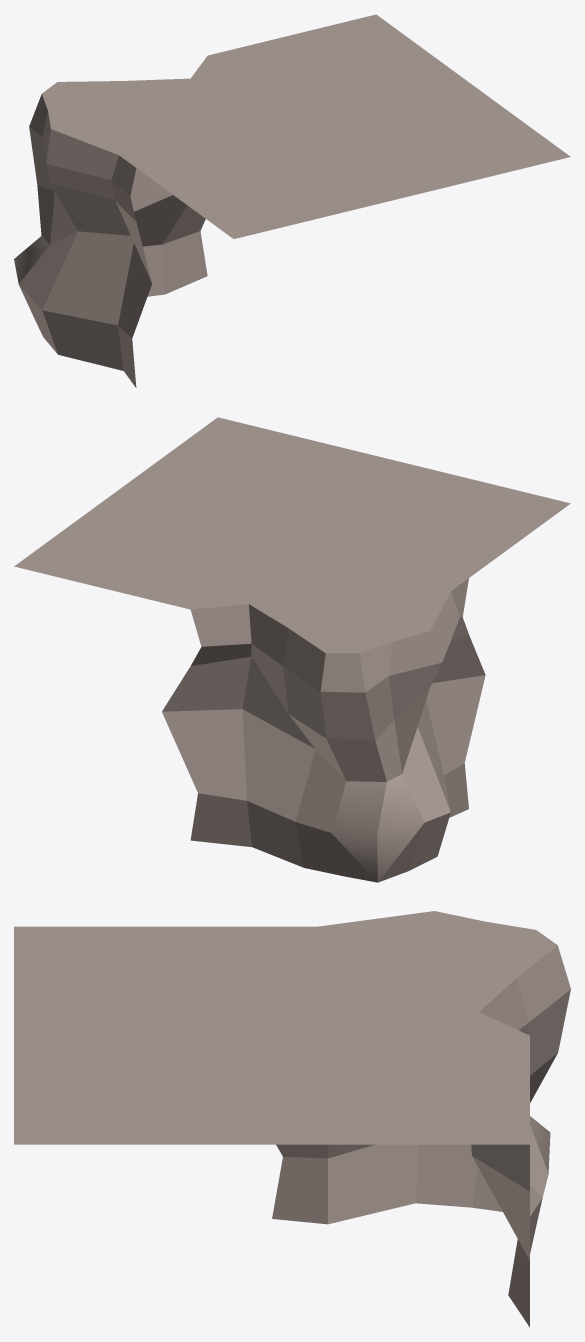
File: ArenaWall_Corner_Inner_B.fbx
3 views of the same model, one above another, from view 1: azimuth 30°, elevation 25°; view 2: azimuth 150°, elevation 25°; view 3: azimuth 270°, elevation 25° (orthographic). The views are drawn at different scales.
Visible parts, largest first — view 1: ArenaWall_Corner_Inner_B; view 2: ArenaWall_Corner_Inner_B; view 3: ArenaWall_Corner_Inner_B.
Boxes of the visible parts, x1,y1,x2,y2 form: ArenaWall_Corner_Inner_B: (14,14,570,387); ArenaWall_Corner_Inner_B: (14,417,570,882); ArenaWall_Corner_Inner_B: (14,911,570,1327).
Bounding box in the file's own units: 4.45 × 2.5 × 4.32.
